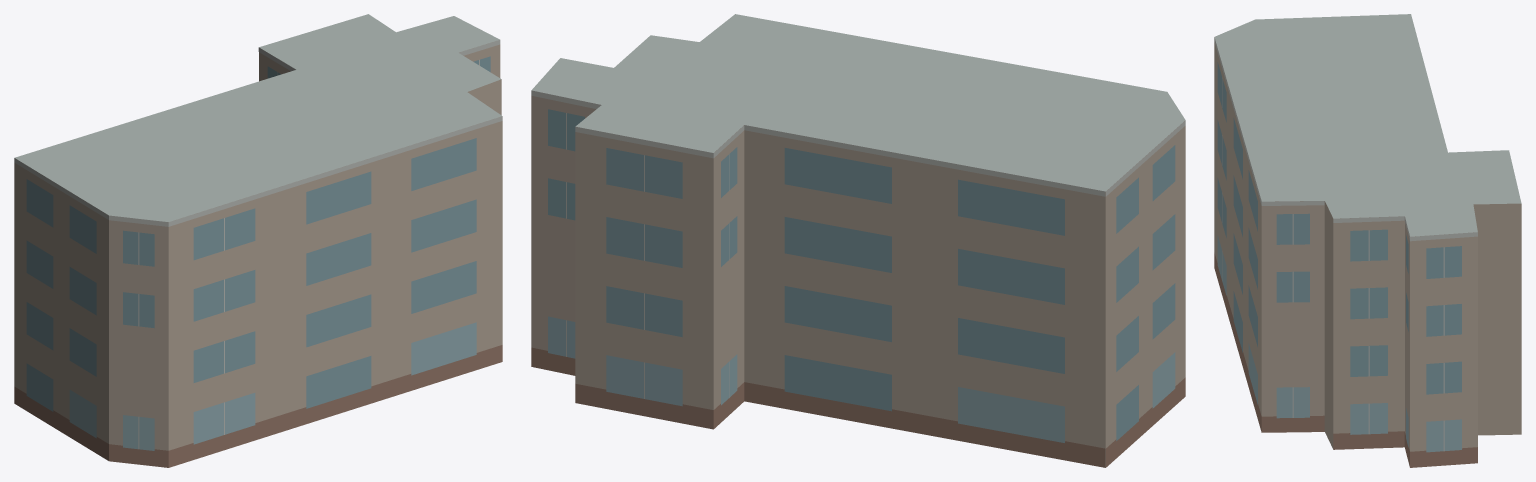
Rendered from survey-upis-32610744.glb.
The picture shows the model from 3 angles, left to right: view 1: azimuth 30°, elevation 25°; view 2: azimuth 150°, elevation 25°; view 3: azimuth 270°, elevation 25°; orthographic projection. The views are drawn at different scales.
Visible parts, largest first — view 1: survey-upis-32610744.tmp; view 2: survey-upis-32610744.tmp; view 3: survey-upis-32610744.tmp.
Part boxes in pixels (x1=…): survey-upis-32610744.tmp: x1=14, y1=14, x2=502, y2=467; survey-upis-32610744.tmp: x1=531, y1=14, x2=1185, y2=467; survey-upis-32610744.tmp: x1=1214, y1=14, x2=1521, y2=467.
Bounding box in the file's own units: 26.27 × 12.7 × 15.31.
